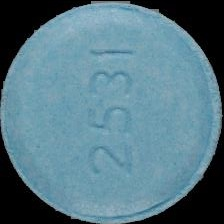33261-029: (0, 0, 224, 224)
